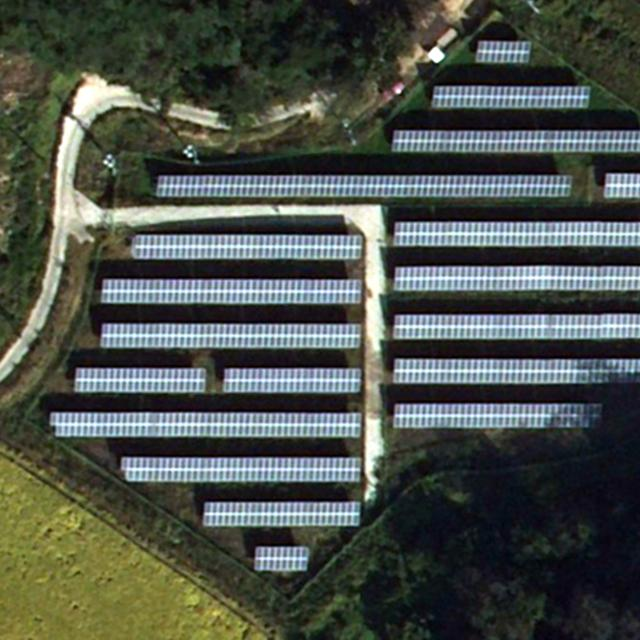panel: (152, 172, 573, 200), (48, 410, 362, 438), (99, 277, 362, 306), (101, 322, 366, 349), (392, 220, 640, 248), (128, 233, 364, 262), (390, 313, 640, 340), (391, 265, 640, 292), (120, 456, 363, 483), (390, 358, 640, 384), (389, 130, 640, 155), (391, 402, 603, 429), (429, 83, 591, 113), (200, 500, 362, 529), (72, 366, 207, 396), (222, 365, 363, 392), (474, 38, 532, 66), (251, 547, 309, 574), (601, 170, 640, 199)
